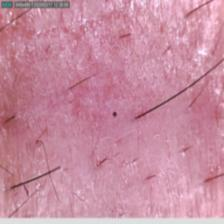Dry: (0, 13, 224, 213)
